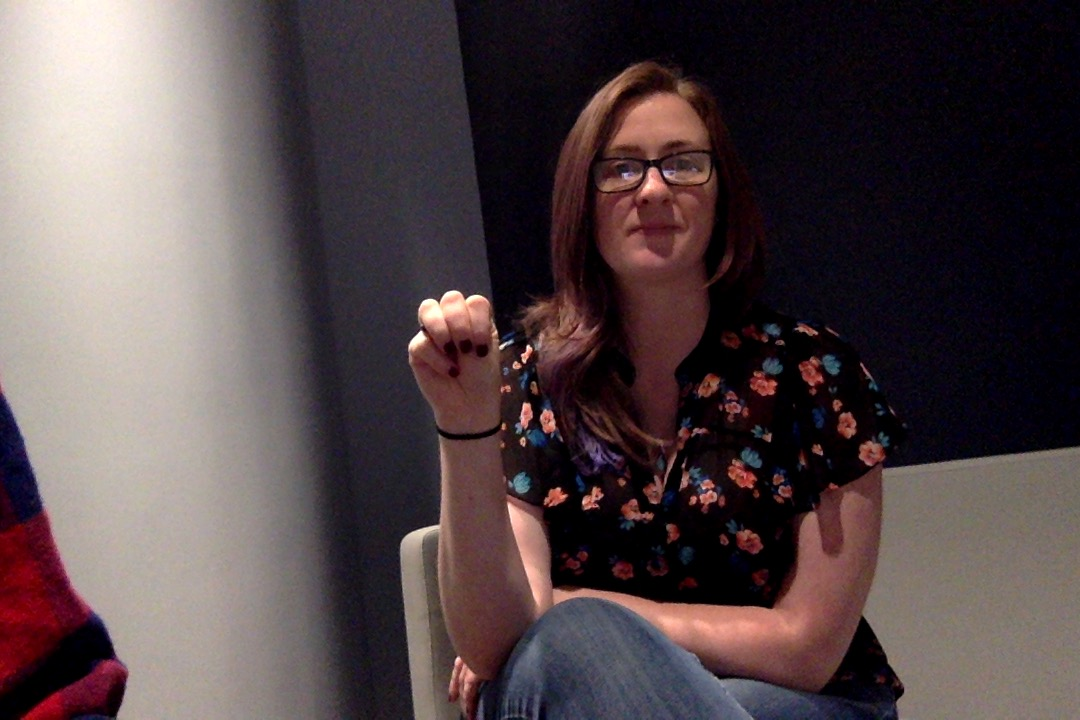m: (392, 280, 525, 491)
